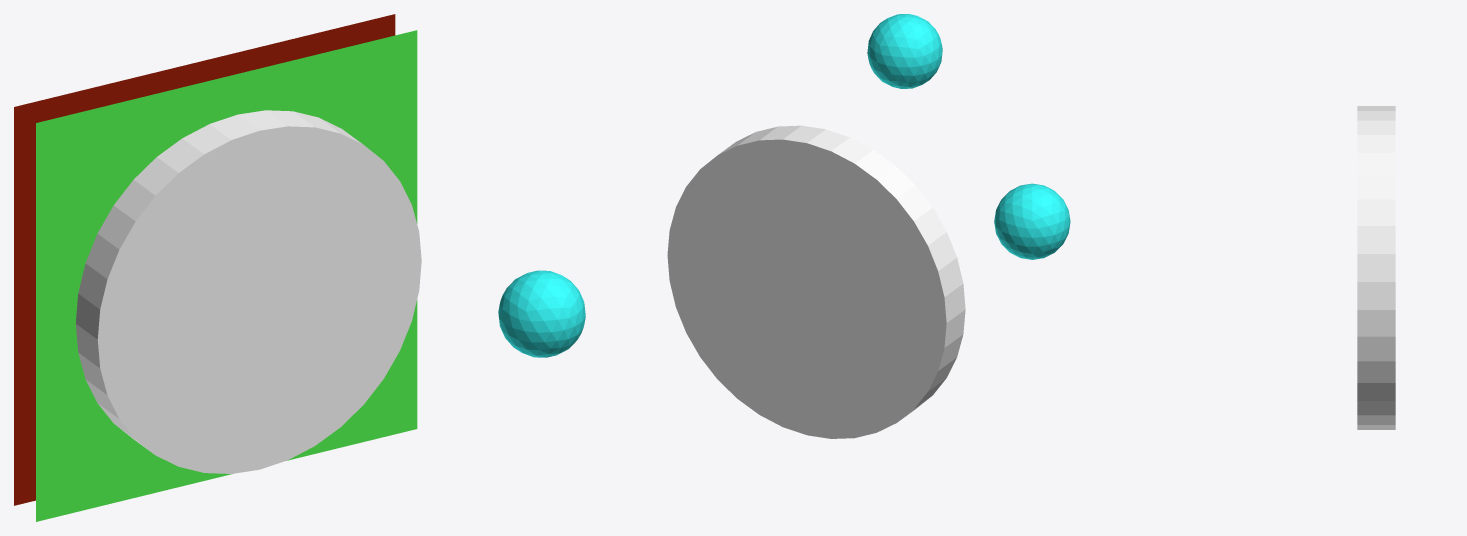
File: board.glb
The picture shows the model from 3 angles, left to right: view 1: azimuth 30°, elevation 25°; view 2: azimuth 150°, elevation 25°; view 3: azimuth 270°, elevation 25°; orthographic projection. The views are drawn at different scales.
Visible parts, largest first — view 1: Piece, Board, Border, Marker; view 2: Piece, Marker; view 3: Piece, Marker.
Part boxes in pixels (box(x1,y1,x2,y2)): Piece: box(75, 110, 421, 473); Board: box(36, 30, 417, 521); Border: box(14, 14, 395, 505); Marker: box(498, 270, 585, 357); Piece: box(667, 125, 965, 438); Marker: box(867, 14, 942, 88); Piece: box(1357, 106, 1395, 429); Marker: box(994, 183, 1070, 259).
Size of the model in its own units: 1 by 1 by 1.2.
